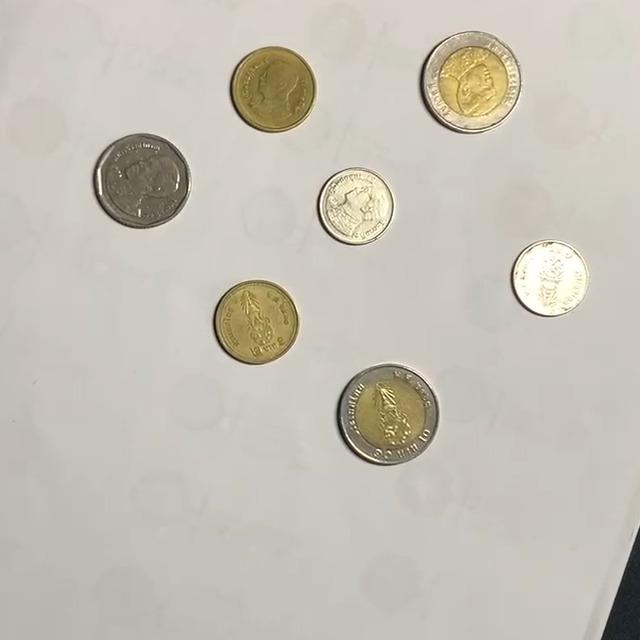1-baht: (317, 167, 397, 246), (511, 239, 592, 317)
10-baht: (424, 30, 525, 133), (338, 365, 440, 466)
2-baht: (231, 46, 317, 133), (214, 280, 300, 365)
5-baht: (94, 133, 193, 229)
